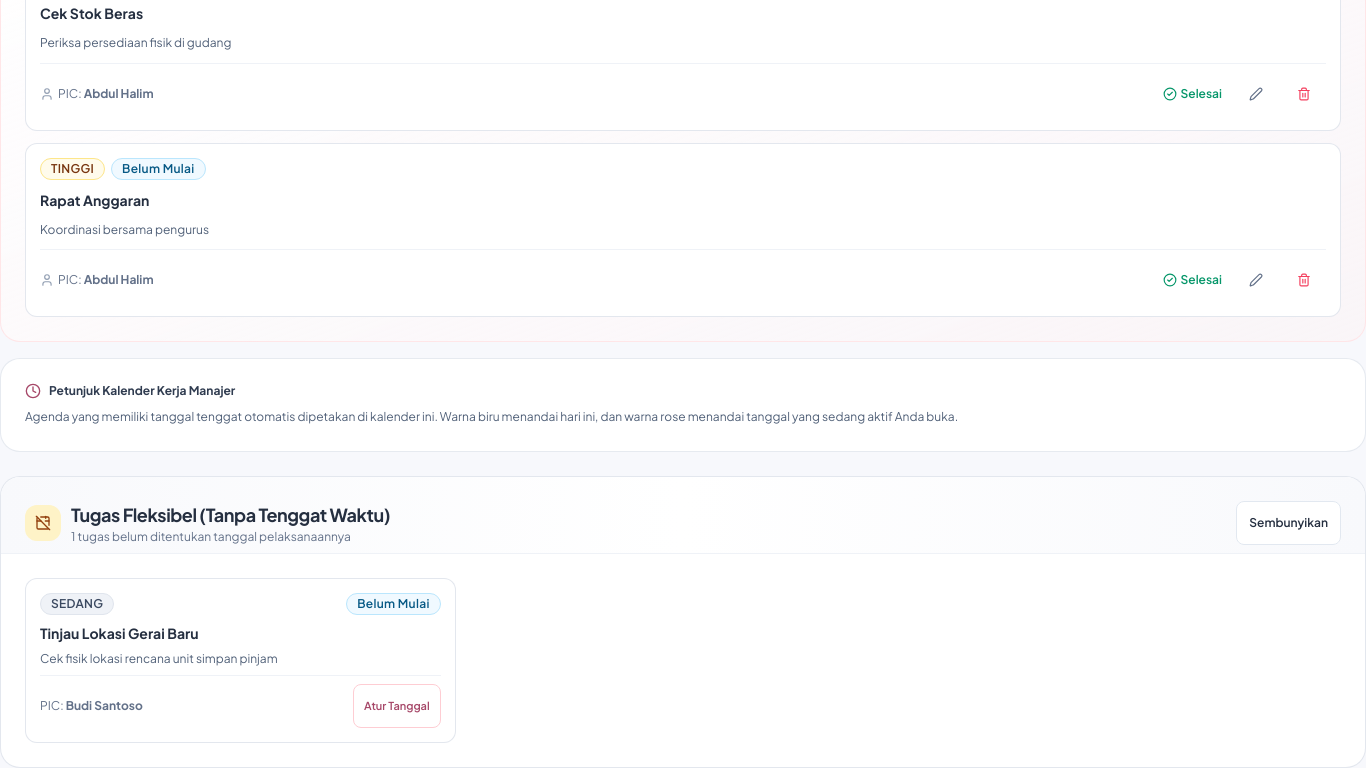
Test: Tahap 4 — Desain Visual, Kalender Modular, & Dialog Konfirmasi › 1. Komponen Kalender Modular (TaskCalendarView) › dapat menyembunyikan dan menampilkan kembali panel tugas fleksibel
This screenshot has width=1366, height=768.
(page scrolled)
Step 1. Click the button "Sembunyikan" → click(1289, 522), box [1236,500,1341,544]
(page scrolled)
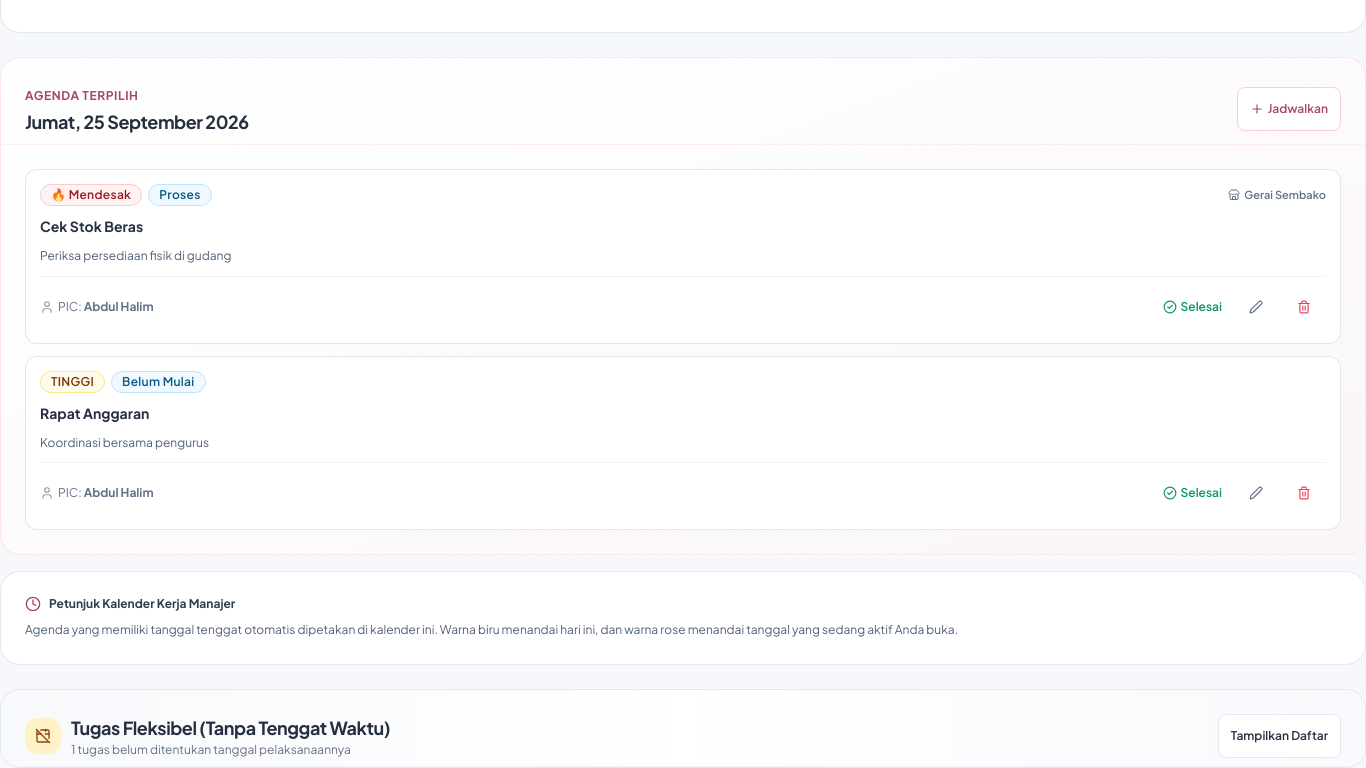
Expected: the heading "Tinjau Lokasi Gerai Baru" is gone
Expected: the button "Tampilkan Daftar" is shown
Step 2. Click the button "Tampilkan Daftar" → click(1279, 736), box [1218,714,1341,758]
(page scrolled)
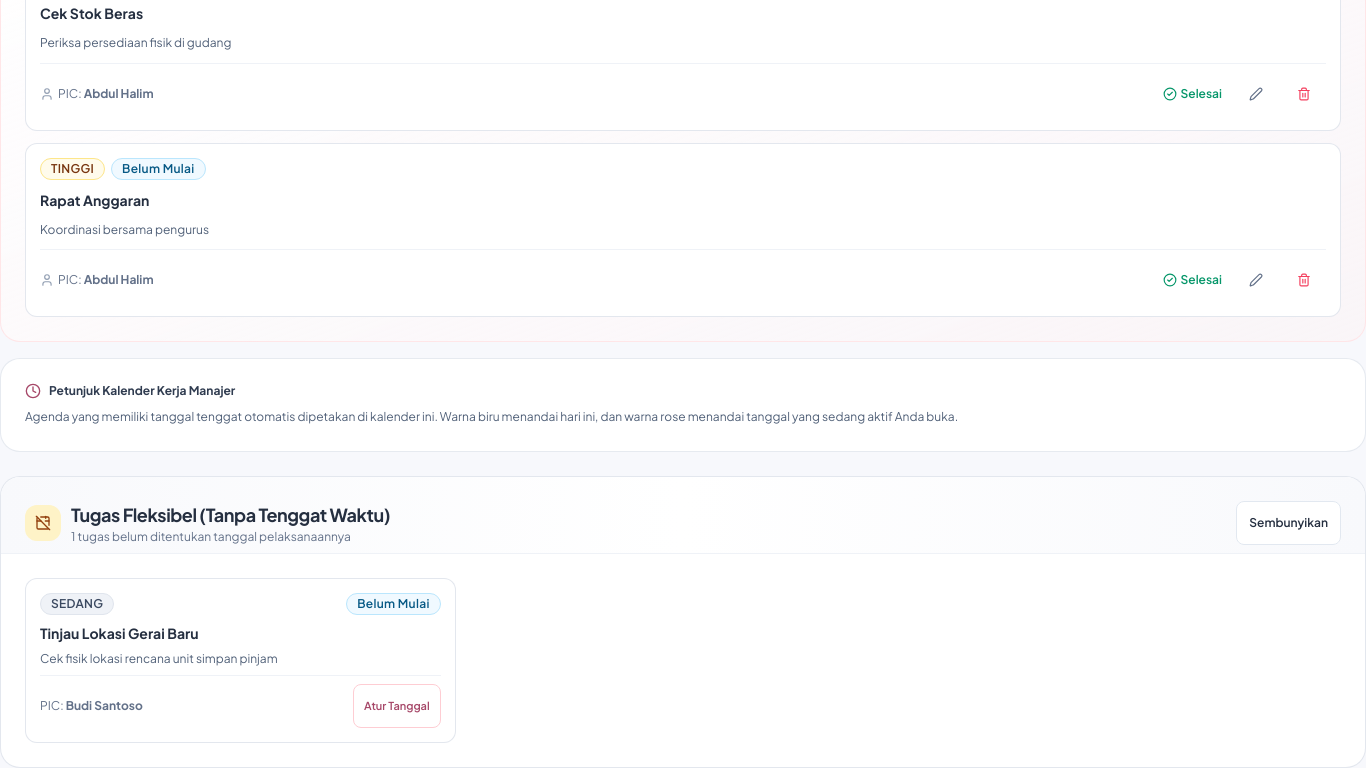
Expected: the heading "Tinjau Lokasi Gerai Baru" is shown, [40,624,199,642]
